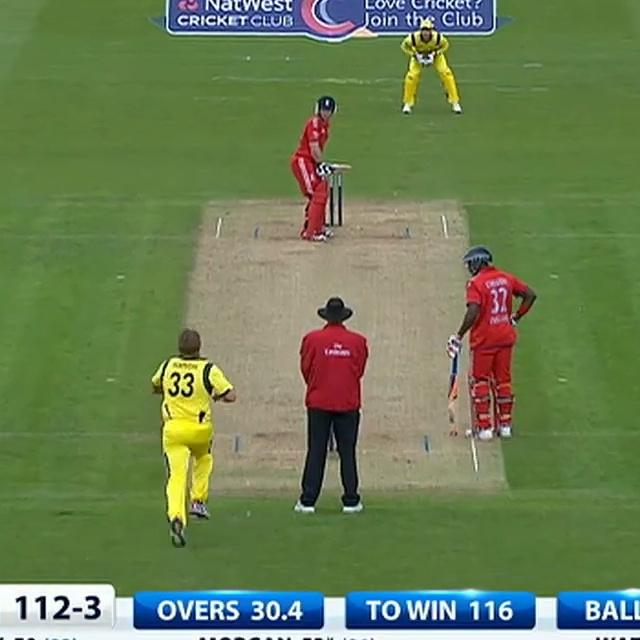umpire: (286, 288, 381, 517)
